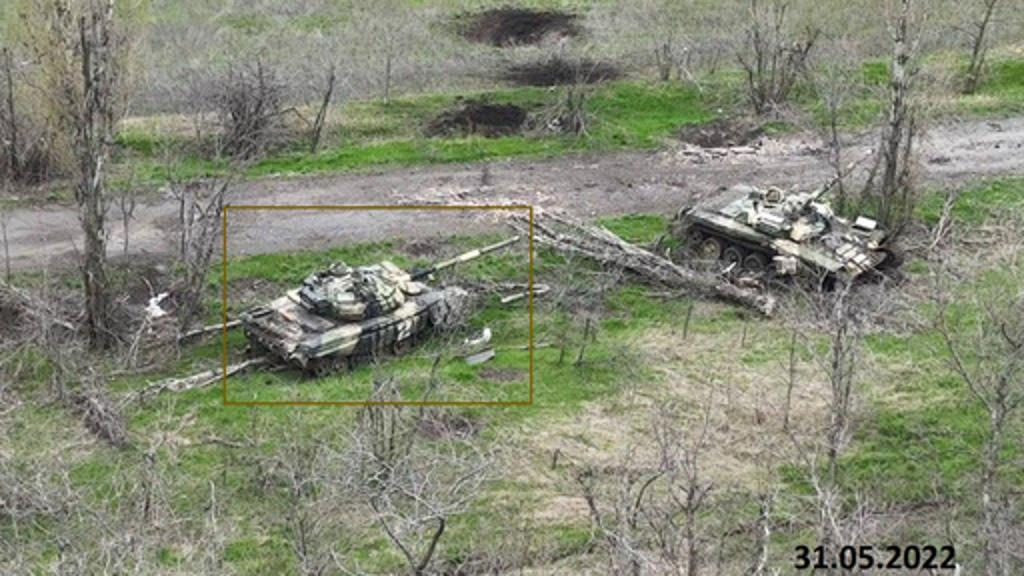TANK: (240, 228, 522, 374), (674, 148, 898, 296)
